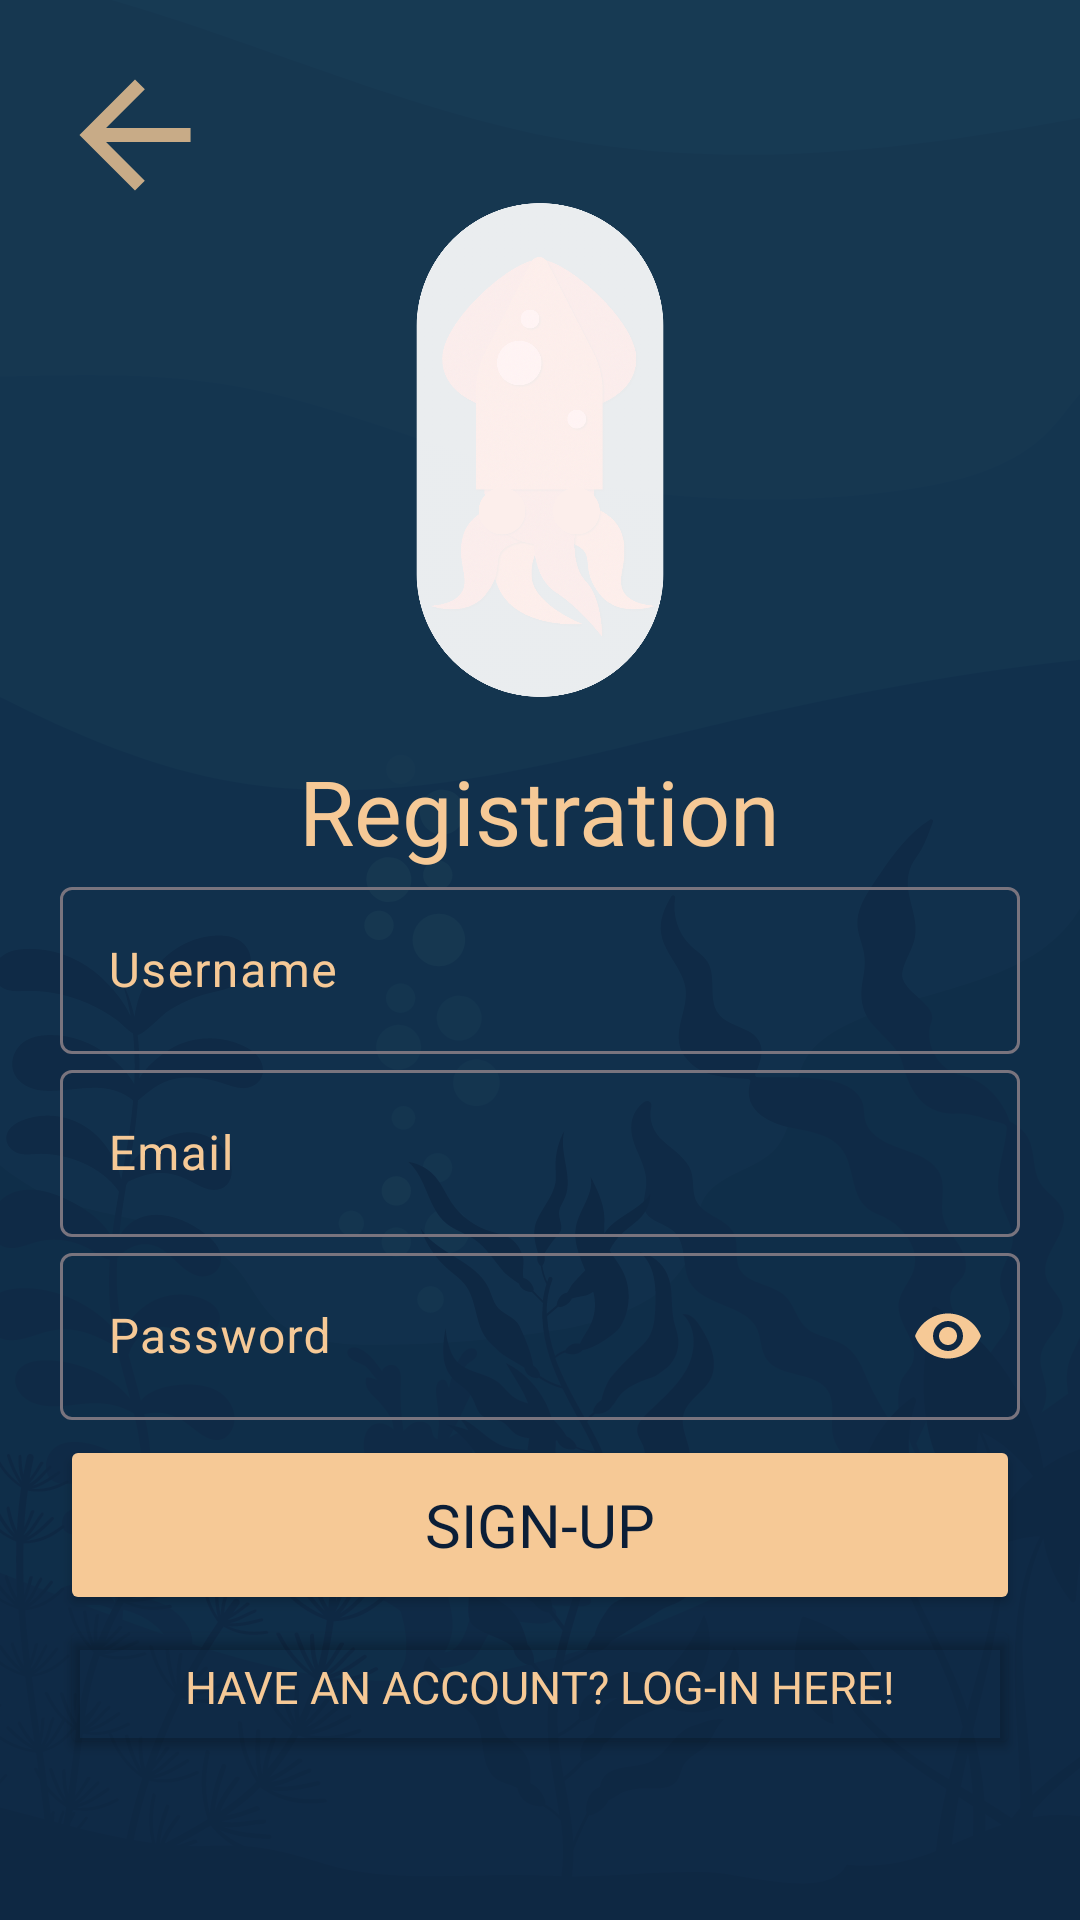

Icons on this 1080w x 1920h Android screen, each with the point to tap as (x=x, y=y):
Back Button: (x=135, y=135)
